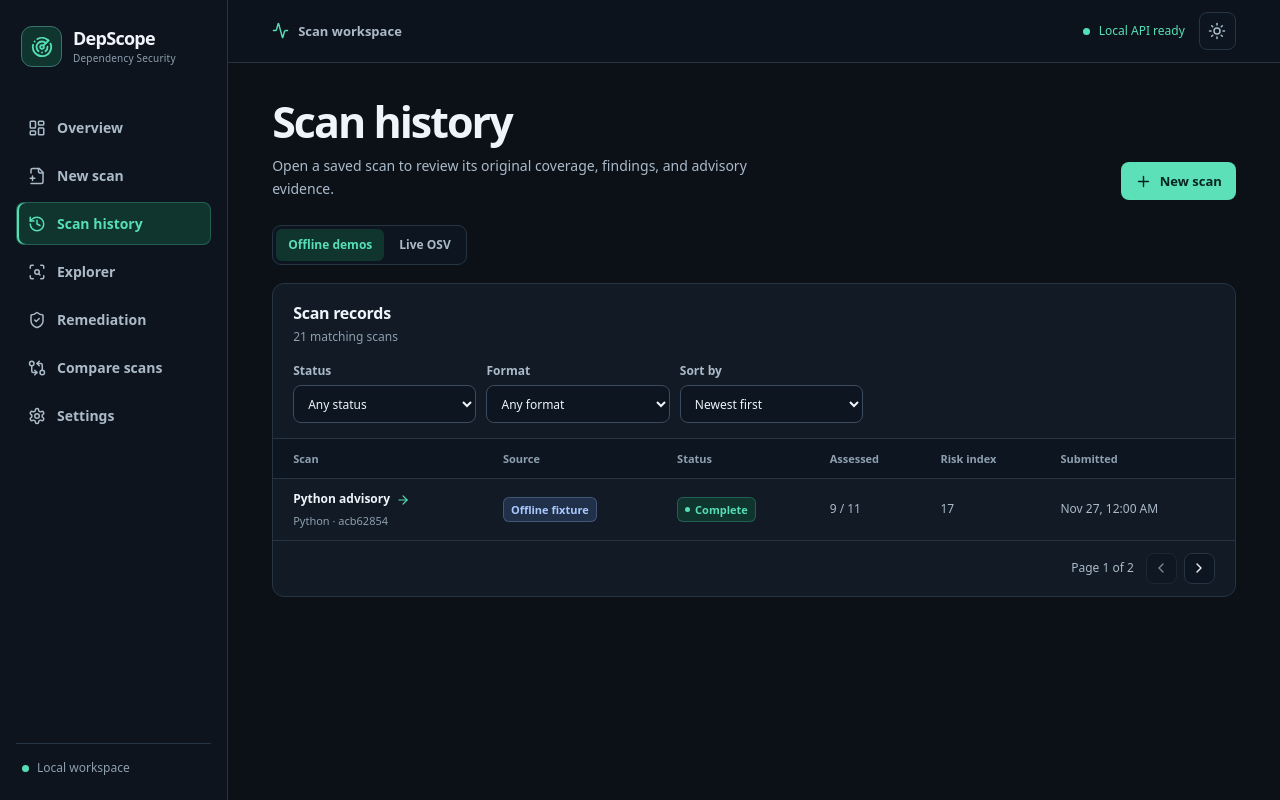
it: History and vulnerability explorer › pages history and filters using the API
Expected: the link "Python advisory" is shown, [293,490,410,509]
Click the button named "Next scan history page" at (1199, 568), box [1184,553,1215,584]
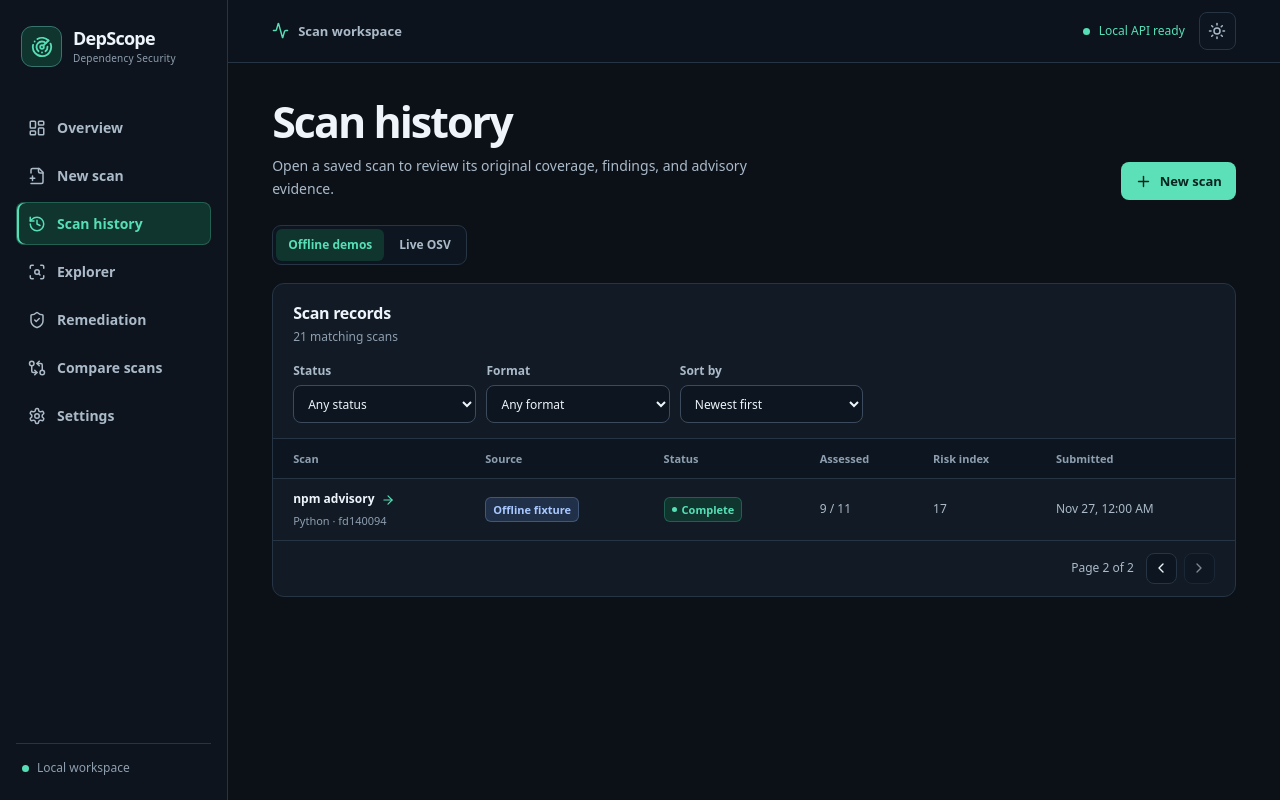
Now the link "npm advisory" is shown, box [293,490,395,509]
Now the text "Page 2 of 2" is shown, box [1071,559,1134,578]
Select "failed" in the dropdown labelled "Status" at (385, 404), box [293,385,476,423]
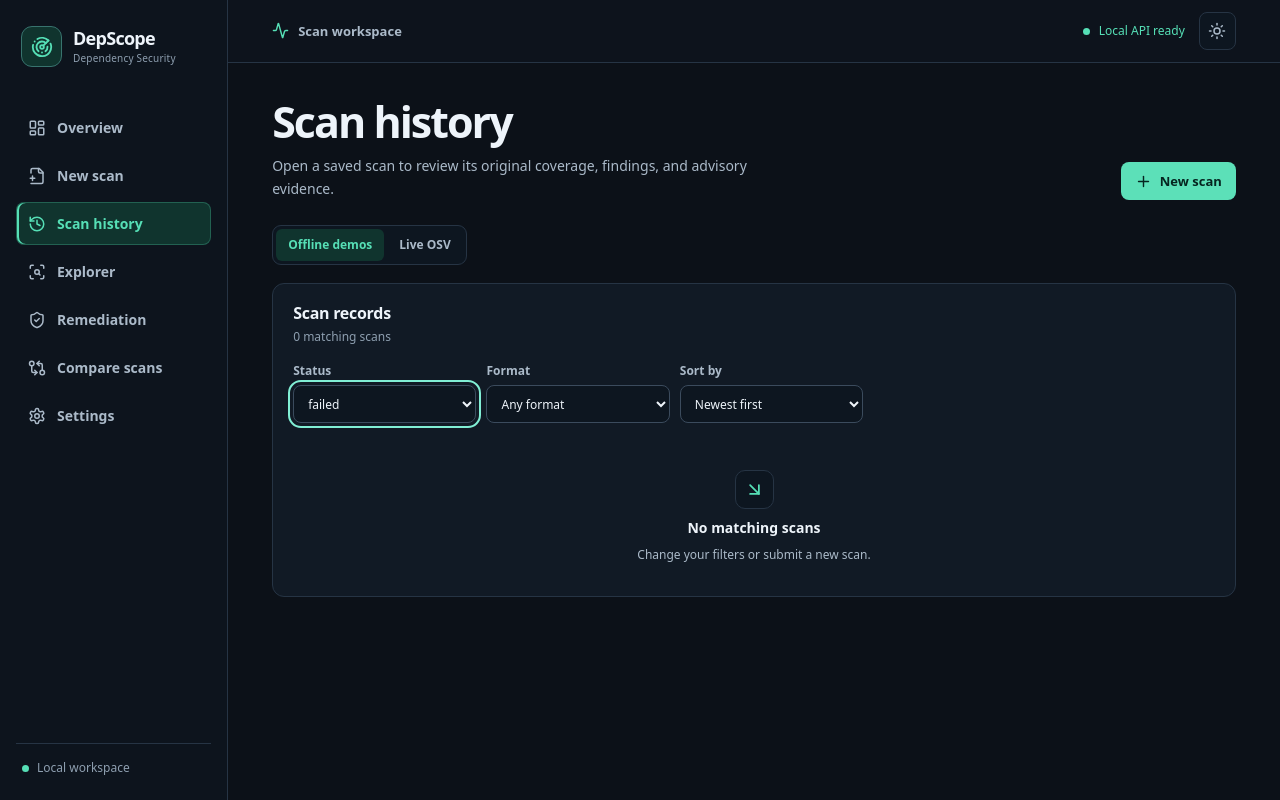
Now the heading "No matching scans" is shown, box [687,517,820,539]
